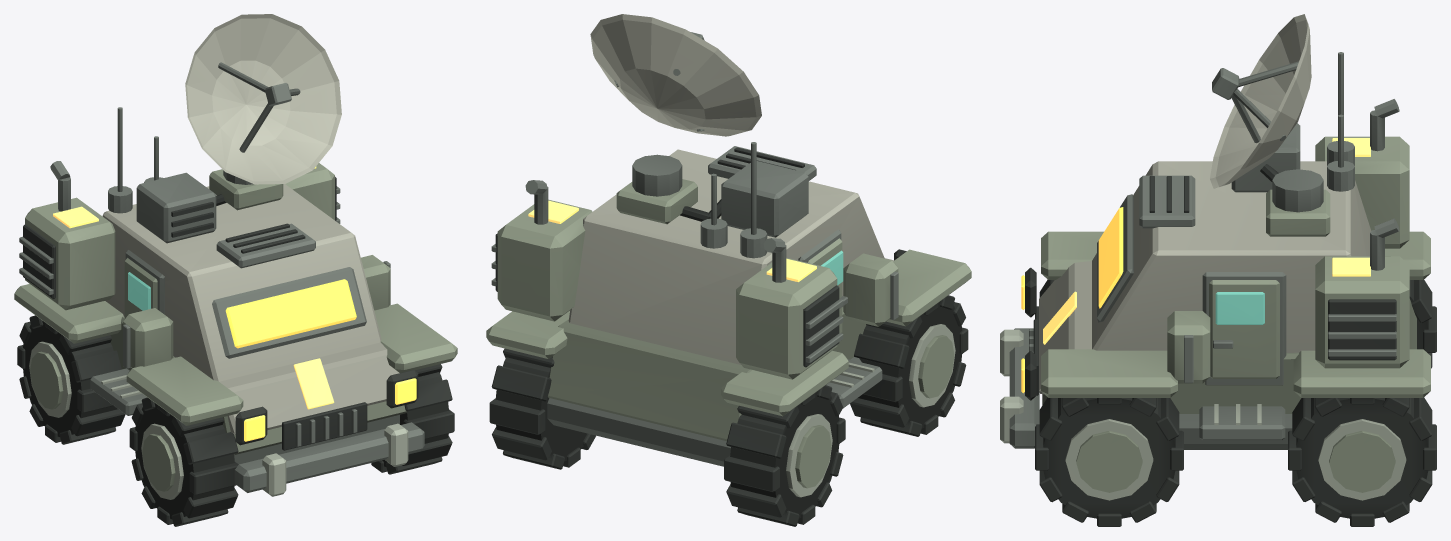
3 views of the same model, side by side, from view 1: azimuth 30°, elevation 25°; view 2: azimuth 150°, elevation 25°; view 3: azimuth 270°, elevation 25° (orthographic). The views are drawn at different scales.
Parts seen in each view (by area): view 1: Sloped command cabin, Reflector, Armoured hood, Generator pod, Amber windshield, Wheel arch, Impact bumper, Radio electronics, Window gasket, Wheel arch.002, Wheel arch.001, Road wheel (+35 smaller); view 2: Sloped command cabin, Lower hull, Reflector, Generator pod.001, Generator pod, Radio electronics, Armoured chassis, Wheel arch.001, Wheel arch, Road wheel.001, Road wheel, Utility pannier (+25 smaller); view 3: Sloped command cabin, Reflector, Wheel arch.002, Road wheel.003, Road wheel.002, Generator pod.001, Access door.001, Wheel arch.003, Generator pod, Lower hull, Armoured hood, Hub cap.002 (+37 smaller).
Boxes of the visible parts, x1,y1,x2,y2 form: Sloped command cabin: [102, 184, 381, 381]; Reflector: [185, 14, 341, 184]; Armoured hood: [219, 342, 399, 434]; Generator pod: [25, 197, 115, 310]; Amber windshield: [225, 279, 356, 348]; Wheel arch: [126, 356, 243, 425]; Impact bumper: [234, 422, 424, 492]; Radio electronics: [136, 172, 216, 243]; Window gasket: [212, 267, 366, 358]; Wheel arch.002: [374, 303, 457, 372]; Wheel arch.001: [14, 284, 123, 343]; Road wheel: [135, 402, 234, 519]; Sloped command cabin: [568, 149, 884, 364]; Lower hull: [548, 306, 866, 440]; Reflector: [590, 14, 761, 136]; Generator pod.001: [497, 199, 592, 321]; Generator pod: [736, 257, 837, 379]; Radio electronics: [721, 161, 808, 237]; Armoured chassis: [547, 357, 861, 466]; Wheel arch.001: [721, 350, 848, 416]; Wheel arch: [886, 249, 971, 326]; Road wheel.001: [730, 391, 839, 518]; Road wheel: [858, 301, 962, 428]; Utility pannier: [843, 253, 898, 326]; Sloped command cabin: [1092, 161, 1371, 352]; Reflector: [1210, 14, 1311, 188]; Wheel arch.002: [1041, 349, 1177, 397]; Road wheel.003: [1296, 398, 1428, 518]; Road wheel.002: [1043, 398, 1175, 518]; Generator pod.001: [1315, 256, 1409, 368]; Access door.001: [1209, 280, 1279, 378]; Wheel arch.003: [1293, 349, 1430, 397]; Generator pod: [1315, 136, 1409, 248]; Lower hull: [1042, 256, 1416, 413]; Armoured hood: [1039, 261, 1091, 394]; Hub cap.002: [1076, 430, 1142, 492].
Size of the model in its own units: 1.49 by 1.96 by 1.71.
